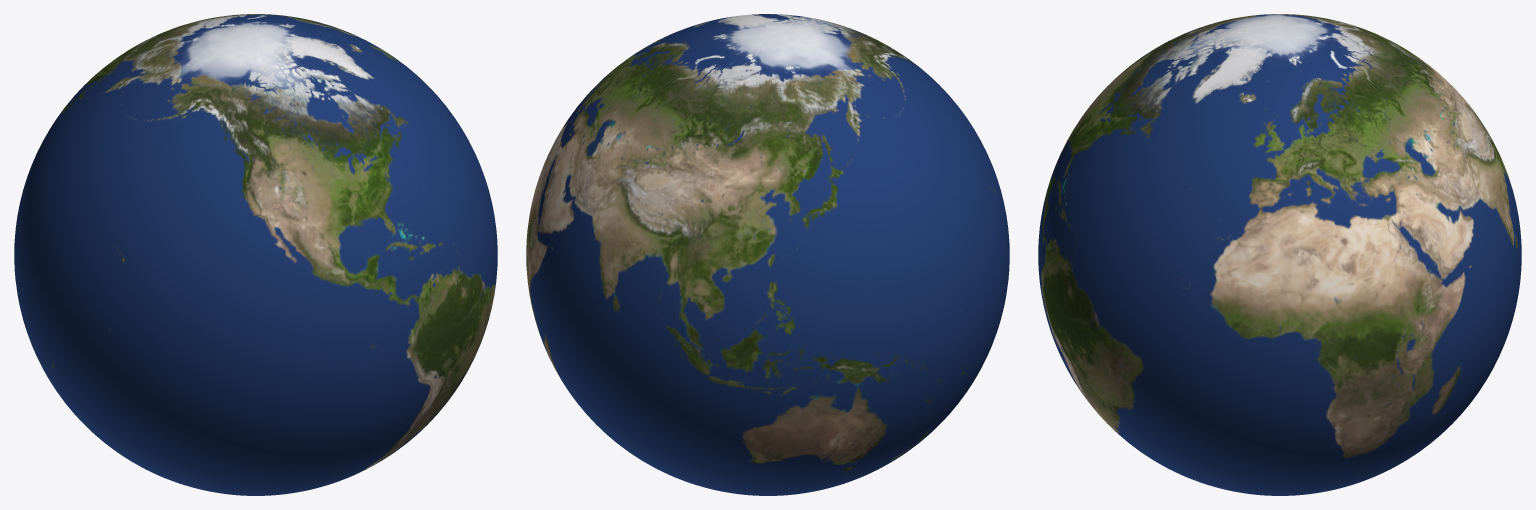
File: earth.glb
3 views of the same model, side by side, from view 1: azimuth 30°, elevation 25°; view 2: azimuth 150°, elevation 25°; view 3: azimuth 270°, elevation 25° (orthographic).
Visible parts, largest first — view 1: Earth; view 2: Earth; view 3: Earth.
Boxes of the visible parts, x1=… form: Earth: x1=14, y1=14, x2=497, y2=495; Earth: x1=526, y1=14, x2=1009, y2=495; Earth: x1=1038, y1=14, x2=1521, y2=495.
Bounding box in the file's own units: 0.5 × 0.5 × 0.5.
Materials: 1 (1 with a texture image).
